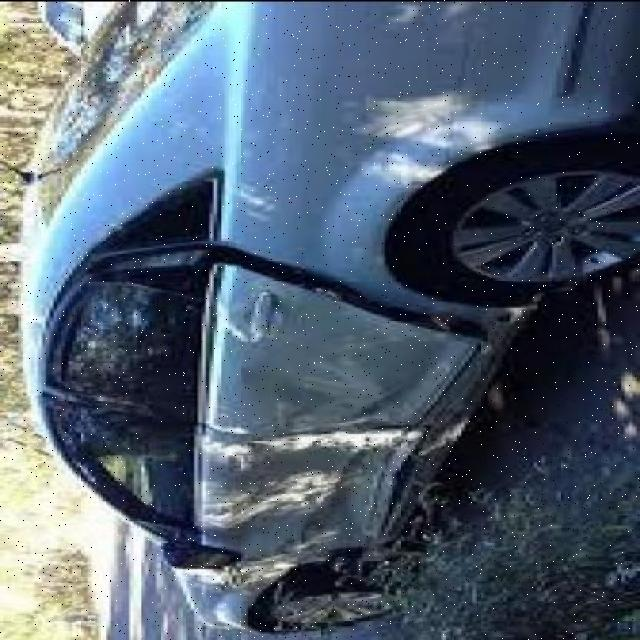damage: (33, 284, 460, 579)
